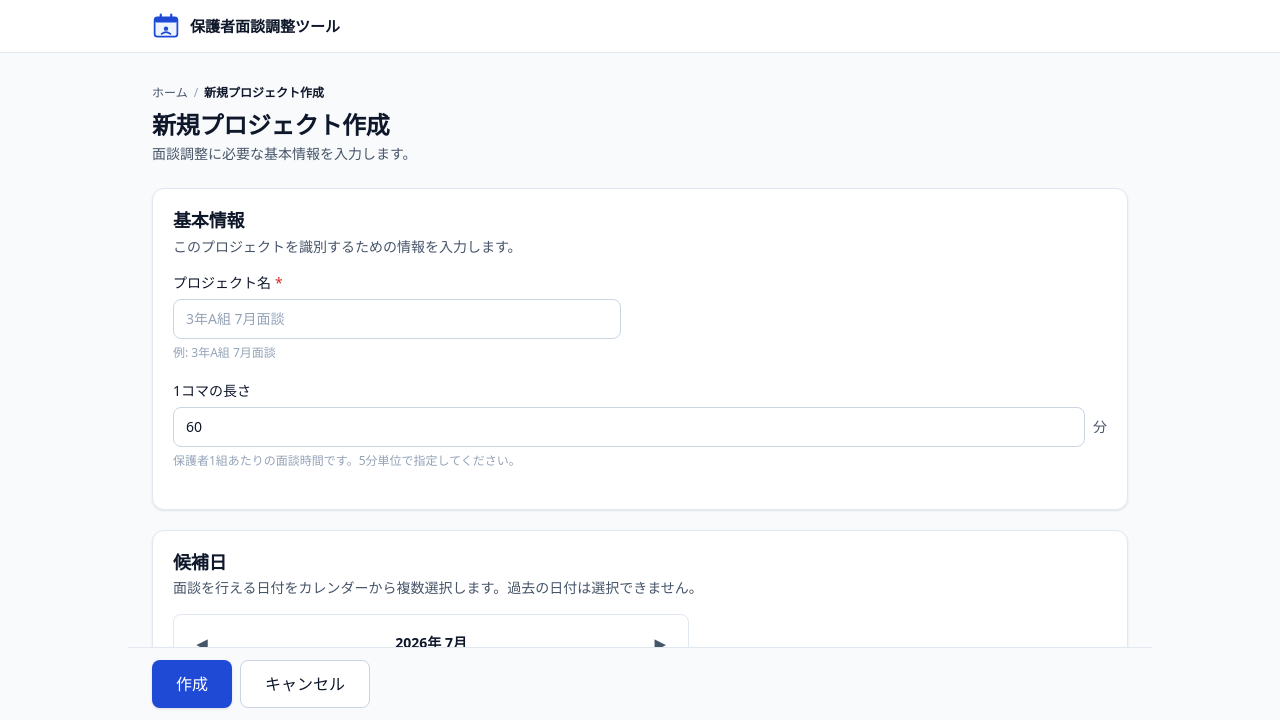
ProjectNewPage › プロジェクト名未入力でサブミットするとエラーを表示する
What coordinates should you click on to do the following:
click the button "作成"
I would click on:
 (192, 684)
Its box is x1=152 y1=660 x2=232 y2=708.
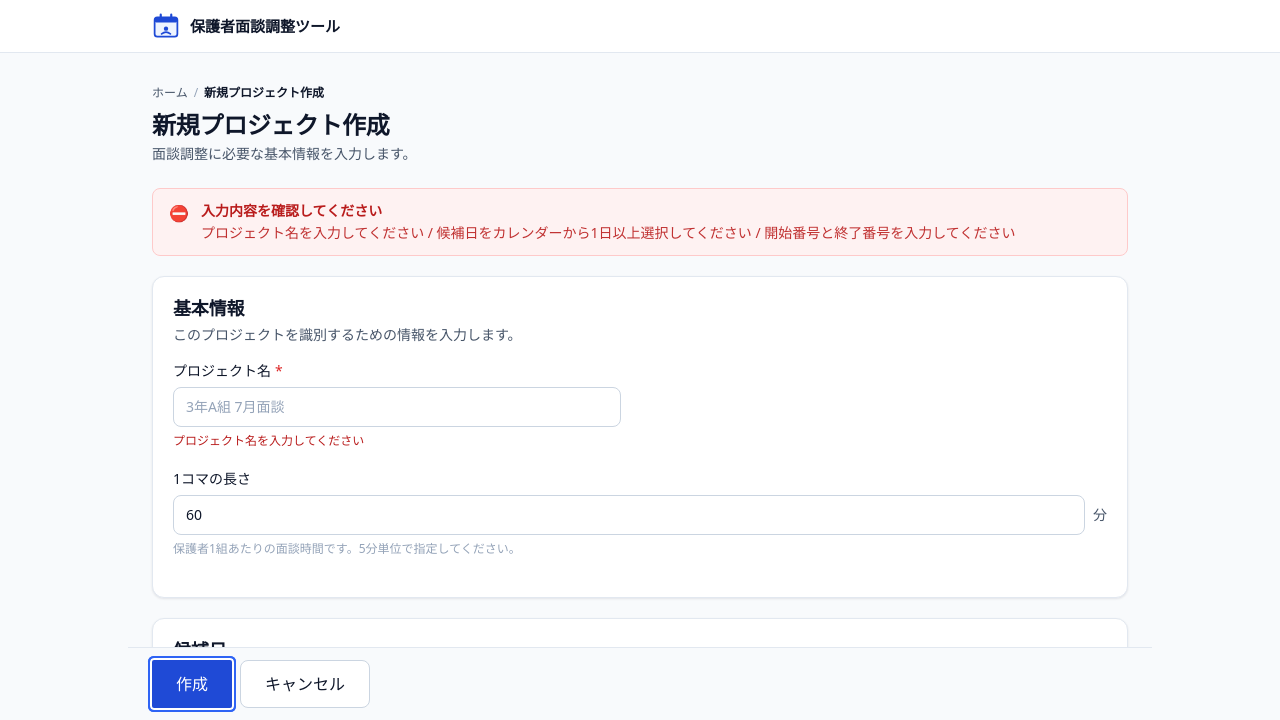
Expected: the message is shown, x1=152 y1=188 x2=1128 y2=256
